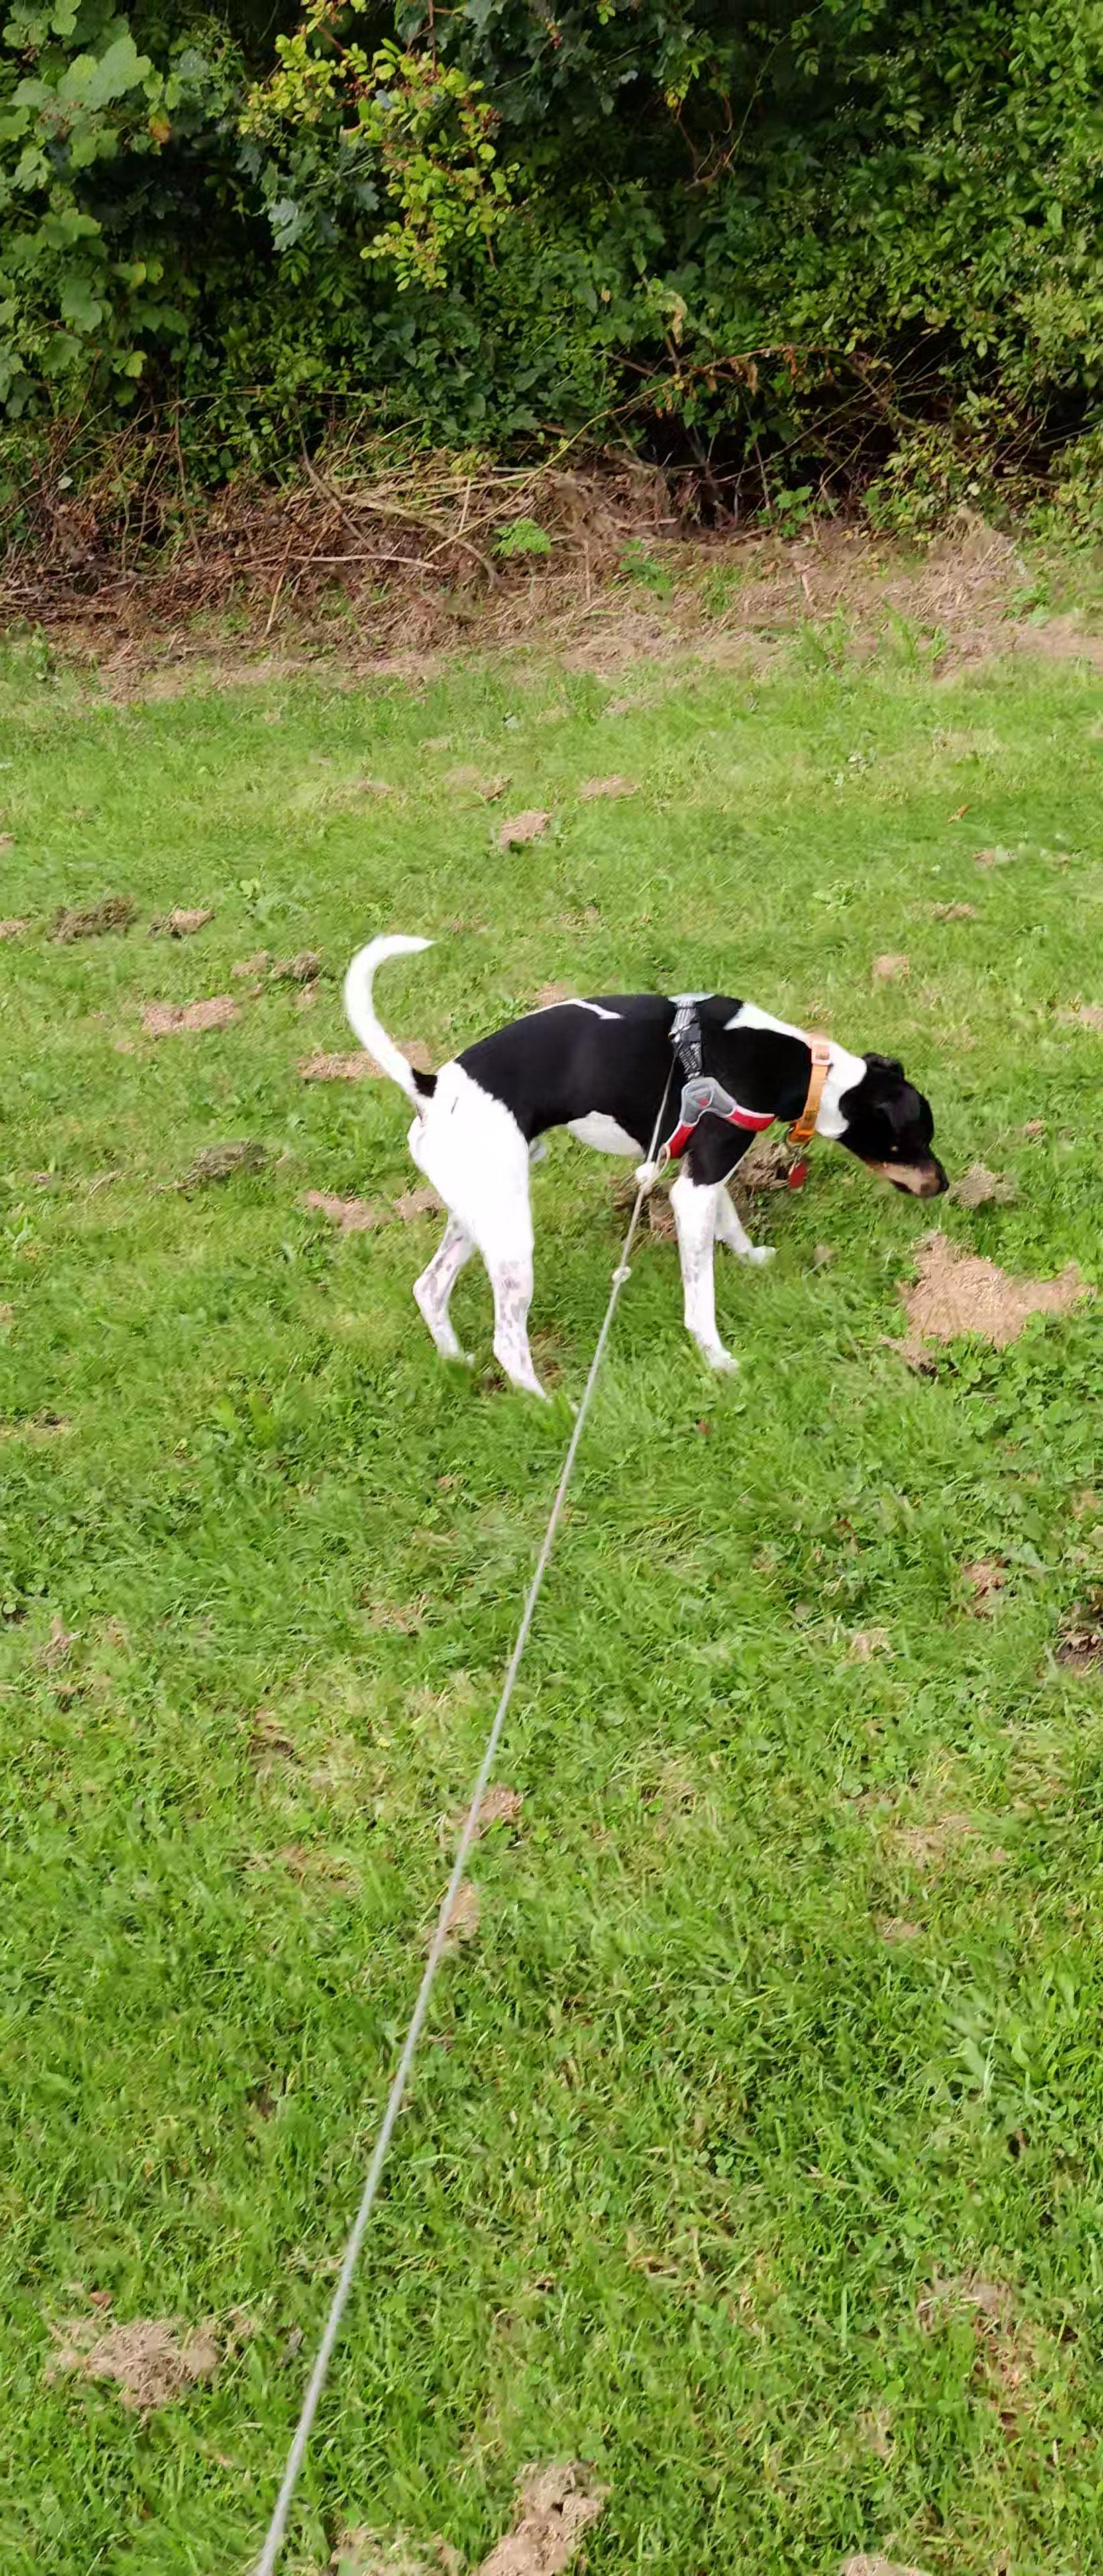Dog: (304, 895, 963, 1421)
